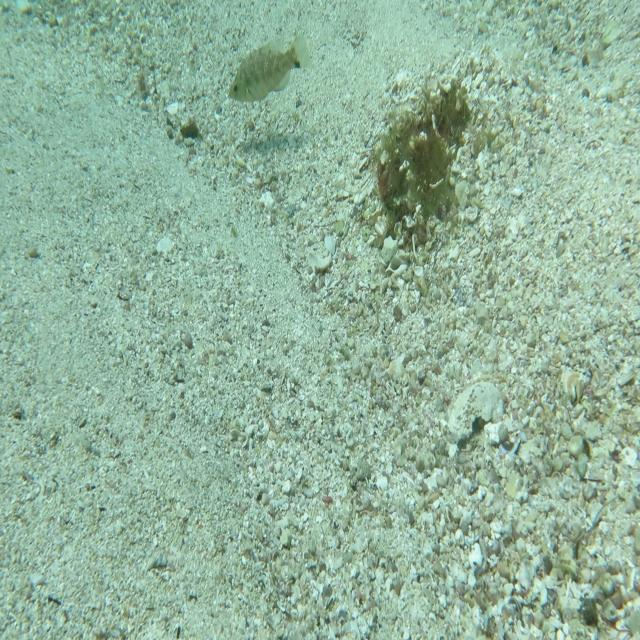SA: (226, 28, 314, 108)
core_nest: (427, 94, 462, 130)
nest: (373, 66, 472, 257)
vegetation: (178, 112, 200, 143), (136, 68, 152, 100)
